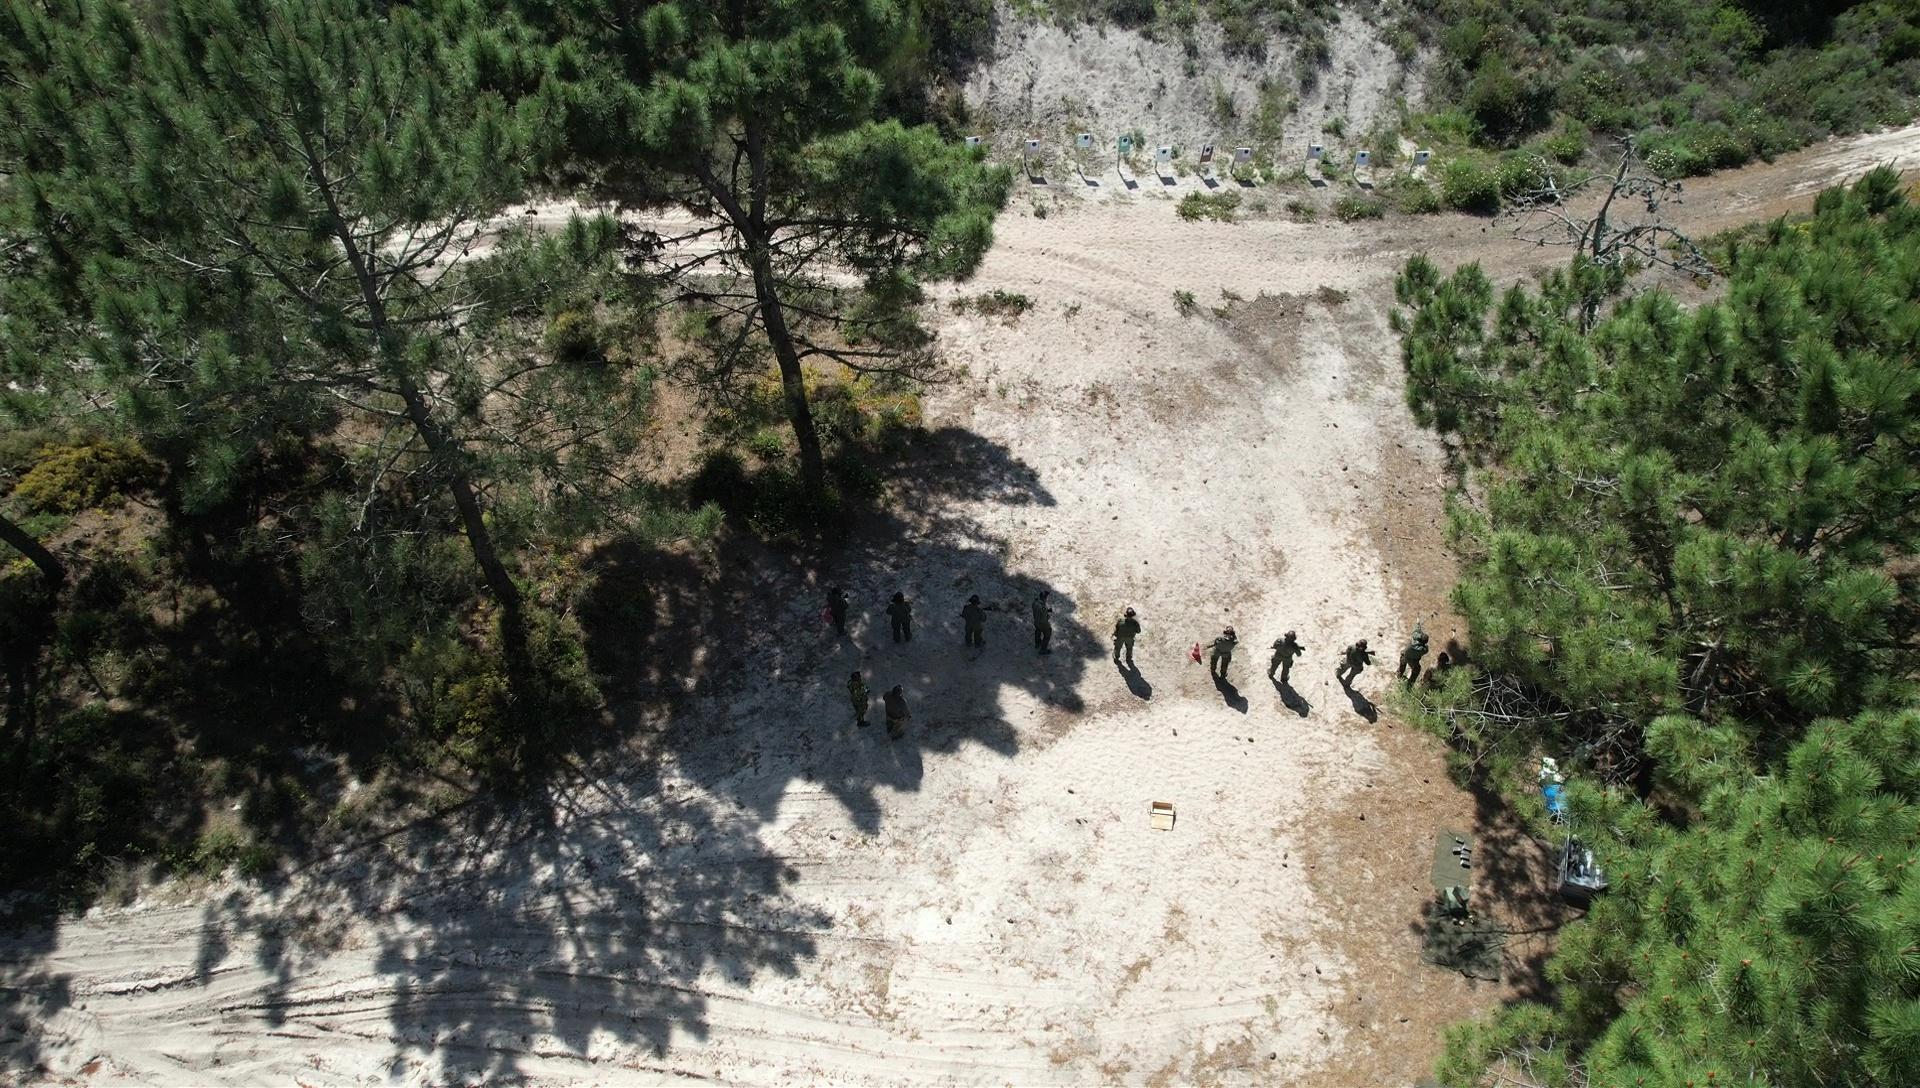Soldier: (1331, 633, 1379, 710), (1102, 601, 1146, 680), (1030, 584, 1071, 663), (1265, 626, 1307, 702), (873, 680, 918, 750), (953, 591, 996, 661), (881, 588, 927, 651), (819, 578, 855, 650), (1207, 624, 1240, 702), (1399, 612, 1432, 688), (843, 669, 876, 729)
